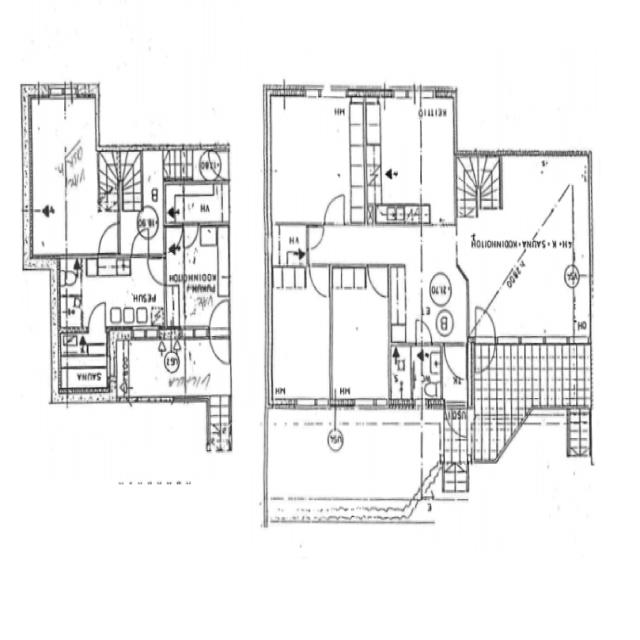door: (400, 247, 458, 343), (410, 343, 443, 405), (207, 296, 232, 358), (472, 302, 498, 350), (96, 217, 122, 259), (442, 341, 469, 381), (364, 262, 390, 303), (322, 190, 348, 228), (308, 261, 332, 302), (86, 298, 110, 336), (144, 252, 168, 287), (444, 404, 468, 438), (128, 228, 152, 262), (414, 316, 434, 348), (305, 223, 326, 252), (181, 222, 199, 252)
window: (276, 393, 332, 418), (348, 391, 388, 419), (127, 391, 178, 409), (317, 80, 350, 101), (302, 80, 325, 102)
zone: (466, 157, 586, 345), (266, 95, 368, 226), (27, 94, 107, 259), (363, 90, 455, 224), (393, 224, 468, 345), (269, 268, 330, 408), (330, 267, 390, 406), (58, 255, 166, 330), (164, 224, 230, 335), (114, 326, 184, 399), (58, 330, 110, 401), (183, 335, 231, 400), (169, 180, 228, 225), (412, 343, 443, 406), (390, 343, 414, 408), (271, 224, 306, 268)
